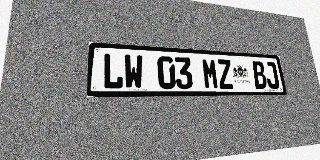0: (157, 56, 176, 89)
3: (174, 57, 193, 89)
B: (251, 61, 268, 89)
J: (264, 62, 280, 89)
L: (102, 53, 123, 89)
M: (201, 58, 219, 89)
W: (124, 54, 144, 89)
Z: (216, 59, 234, 89)
